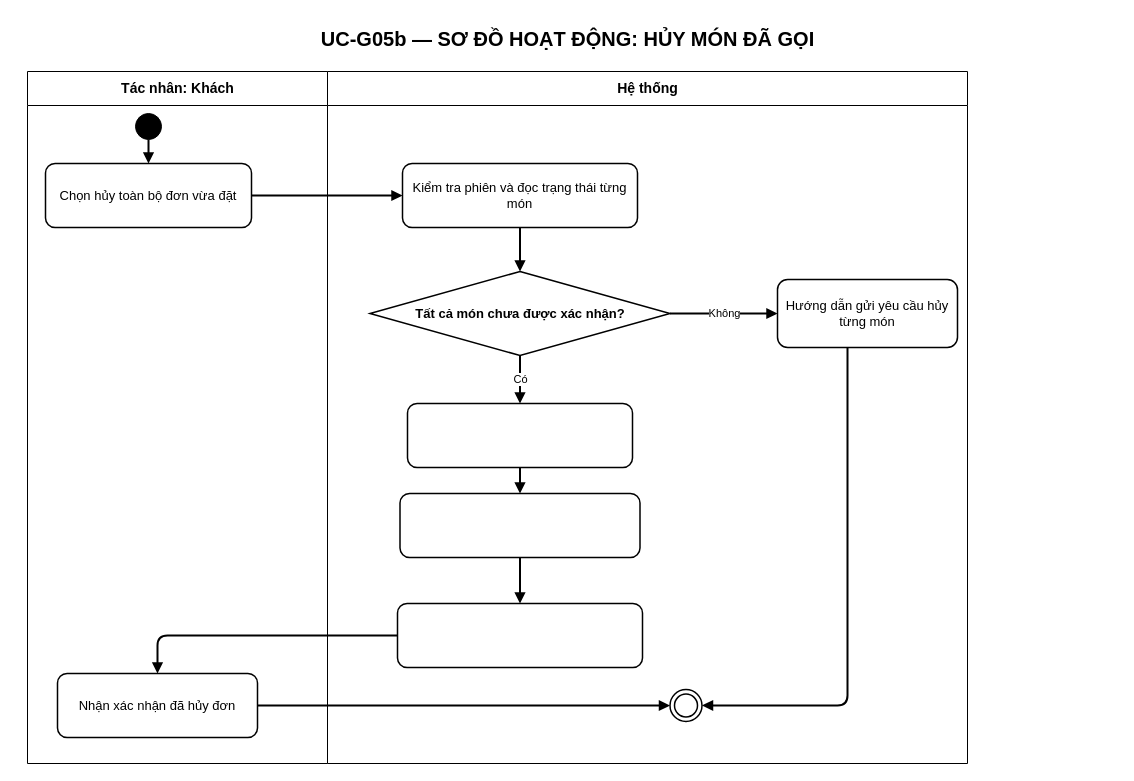
Some shapes in this 1134 by 781 pixel diagram are drawn without their labels. The shapes that lost their labels are listed below. From the top down, each one's centre as x and y in pixels, then its label:
the point at 519,435: Hủy các món chưa xác nhận và gỡ khỏi phiếu bếp
the point at 519,525: Nếu không còn món nào, chuyển cả đơn sang đã hủy
the point at 519,635: Báo các màn hình liên quan đơn vừa hủy
